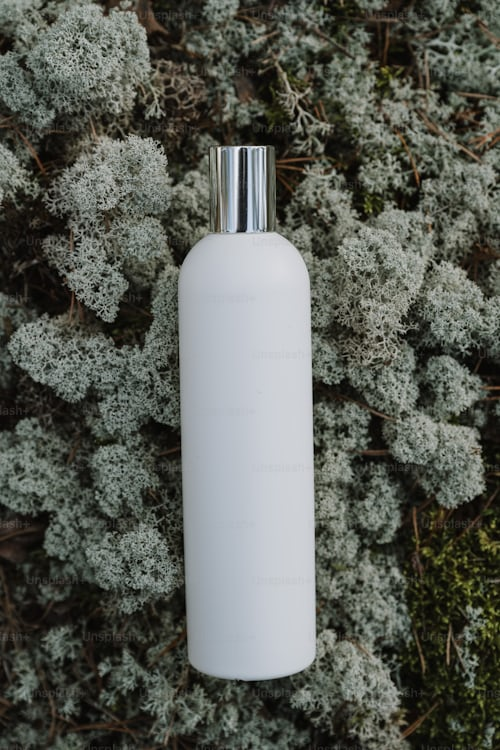Bottle: (181, 136, 331, 693)
